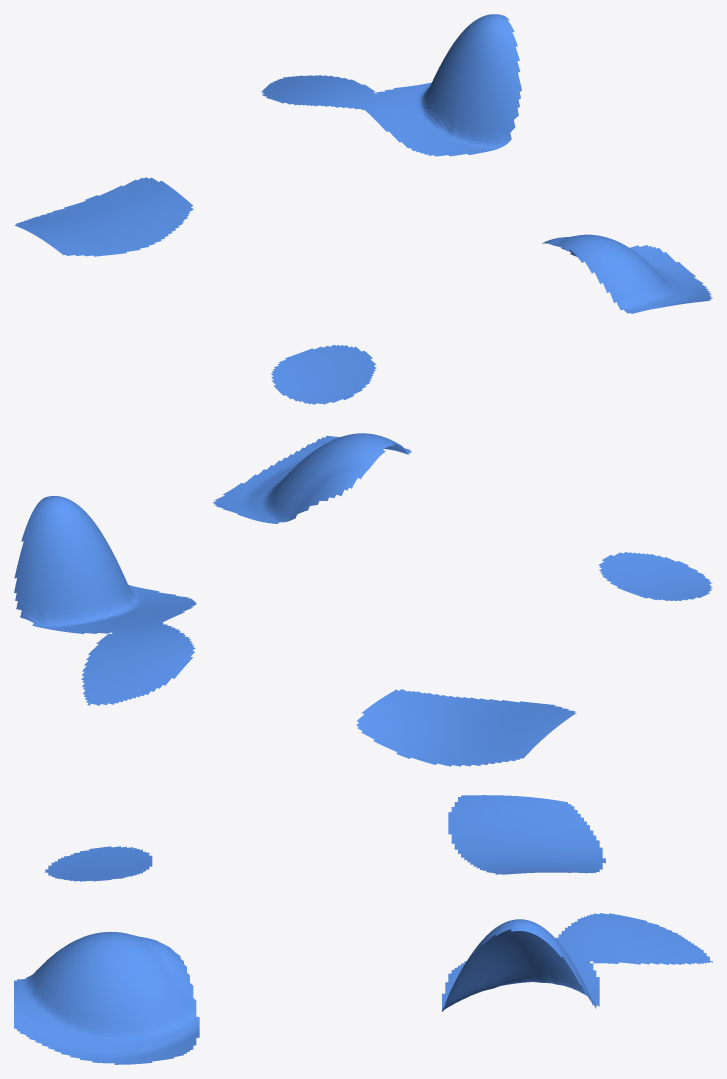
The model's file is terrain_blue.dae.
3 views of the same model, one above another, from view 1: azimuth 30°, elevation 25°; view 2: azimuth 150°, elevation 25°; view 3: azimuth 270°, elevation 25° (orthographic). The views are drawn at different scales.
Visible parts, largest first — view 1: terrain_blue; view 2: terrain_blue; view 3: terrain_blue.
Boxes of the visible parts, bbox=[...] form: terrain_blue: bbox=[14, 14, 712, 404]; terrain_blue: bbox=[14, 433, 712, 766]; terrain_blue: bbox=[14, 795, 712, 1064].
Size of the model in its own units: 36.51 by 43.34 by 9.97.
